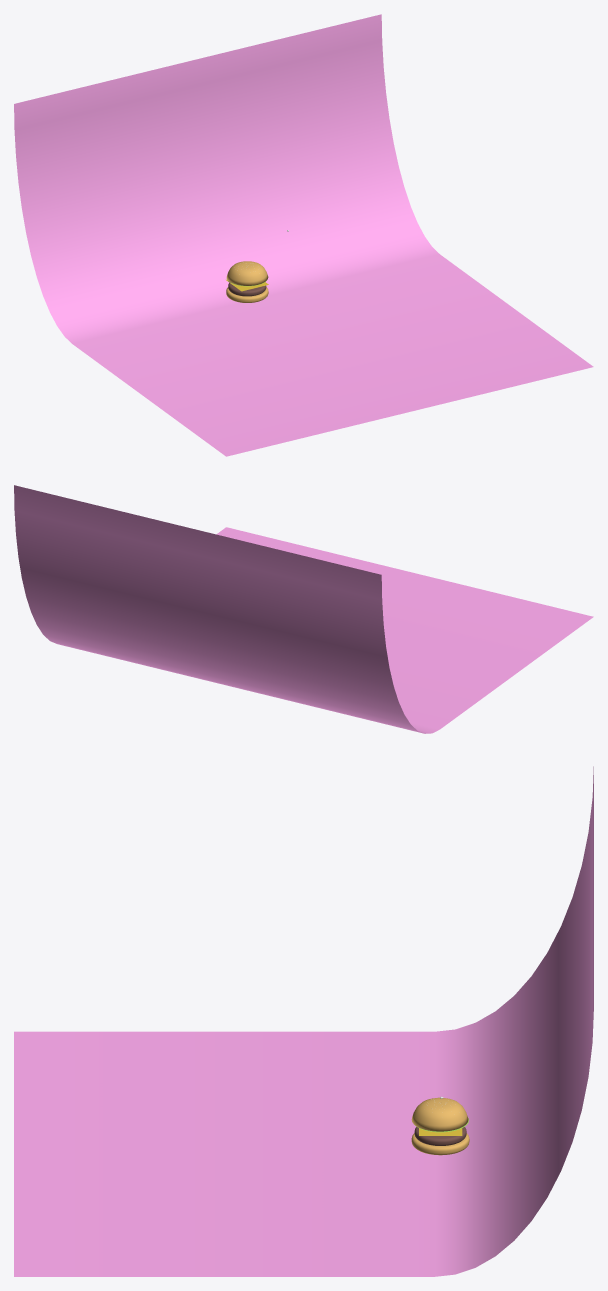
The model's file is ハンバーガー.glb.
The picture shows the model from 3 angles, top to bottom: view 1: azimuth 30°, elevation 25°; view 2: azimuth 150°, elevation 25°; view 3: azimuth 270°, elevation 25°; orthographic projection. The views are drawn at different scales.
Visible parts, largest first — view 1: 平面.001, 球.001; view 2: 平面.001; view 3: 平面.001, 球.001.
Boxes of the visible parts, <box> form: 平面.001: <box>14,14,593,456</box>; 球.001: <box>226,261,268,285</box>; 平面.001: <box>14,485,593,733</box>; 平面.001: <box>14,766,593,1276</box>; 球.001: <box>411,1097,468,1131</box>.
Size of the model in its own units: 20 by 10.26 by 20.
